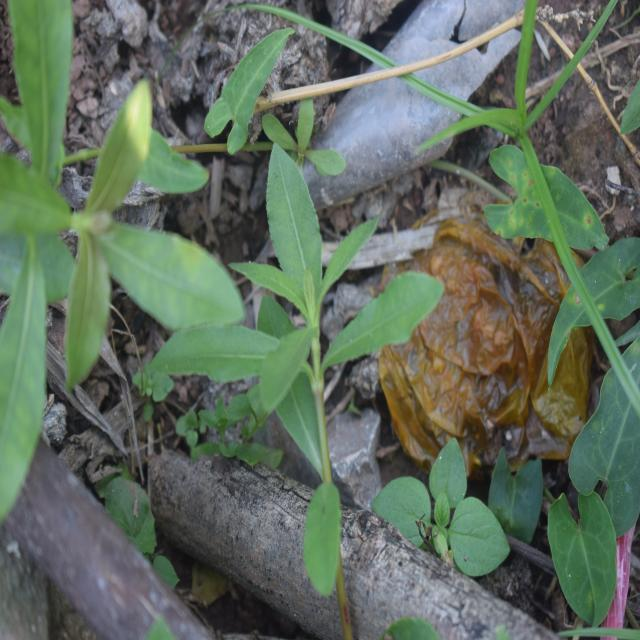Alligatorweed: (198, 144, 415, 601)
